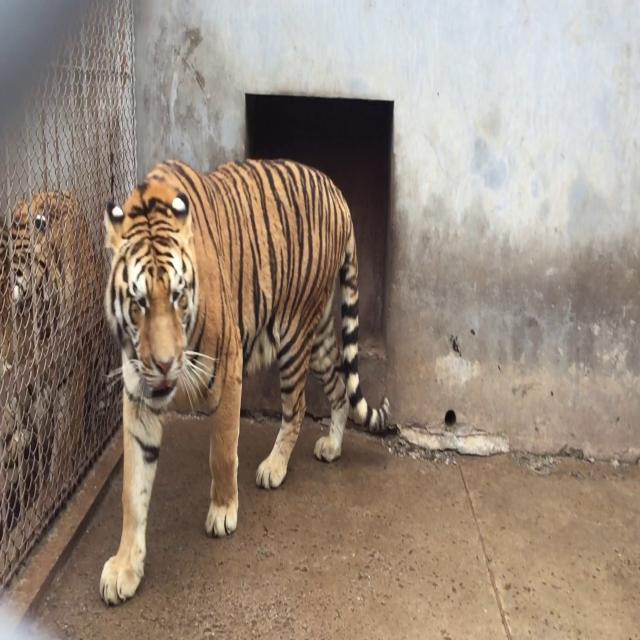Tiger: (81, 115, 416, 640), (1, 186, 99, 465)
